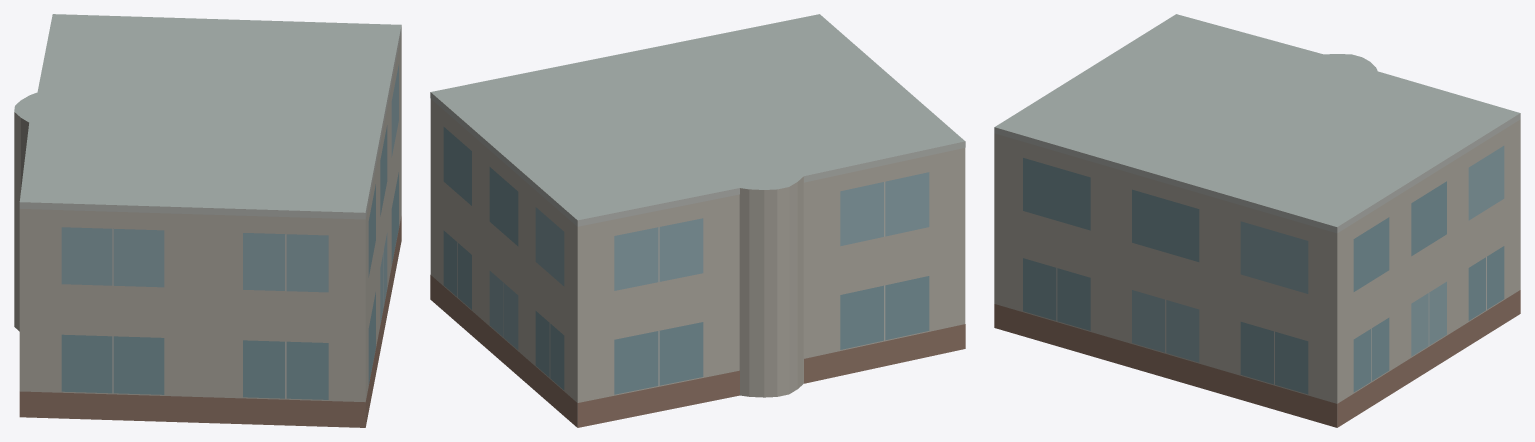
File: survey-upis-32701420.glb
3 views of the same model, side by side, from view 1: azimuth 30°, elevation 25°; view 2: azimuth 150°, elevation 25°; view 3: azimuth 270°, elevation 25° (orthographic). The views are drawn at different scales.
Visible parts, largest first — view 1: survey-upis-32701420.tmp; view 2: survey-upis-32701420.tmp; view 3: survey-upis-32701420.tmp.
Boxes of the visible parts, box(x1,y1,x2,y2) form: survey-upis-32701420.tmp: box(14, 14, 401, 427); survey-upis-32701420.tmp: box(430, 14, 965, 427); survey-upis-32701420.tmp: box(994, 14, 1520, 427).
Bounding box in the file's own units: 17.89 × 7.85 × 18.66.
